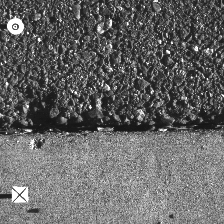circle: (6, 18, 24, 34)
crack: (1, 119, 222, 137)
square: (11, 187, 28, 203)
